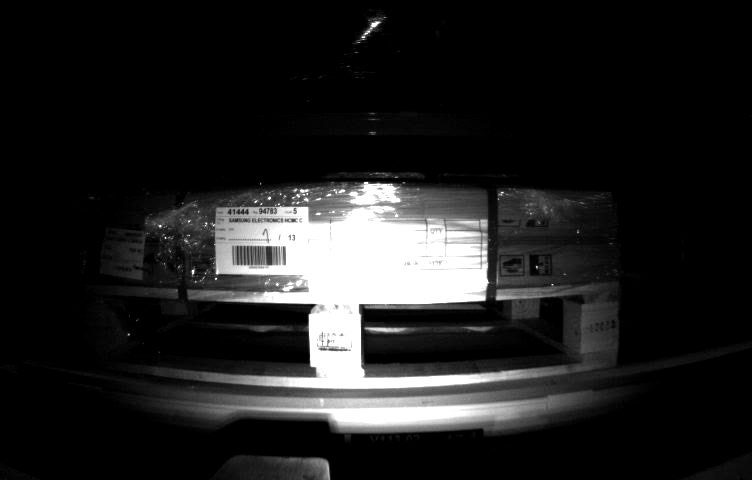True Barcode: (95, 226, 148, 285)
